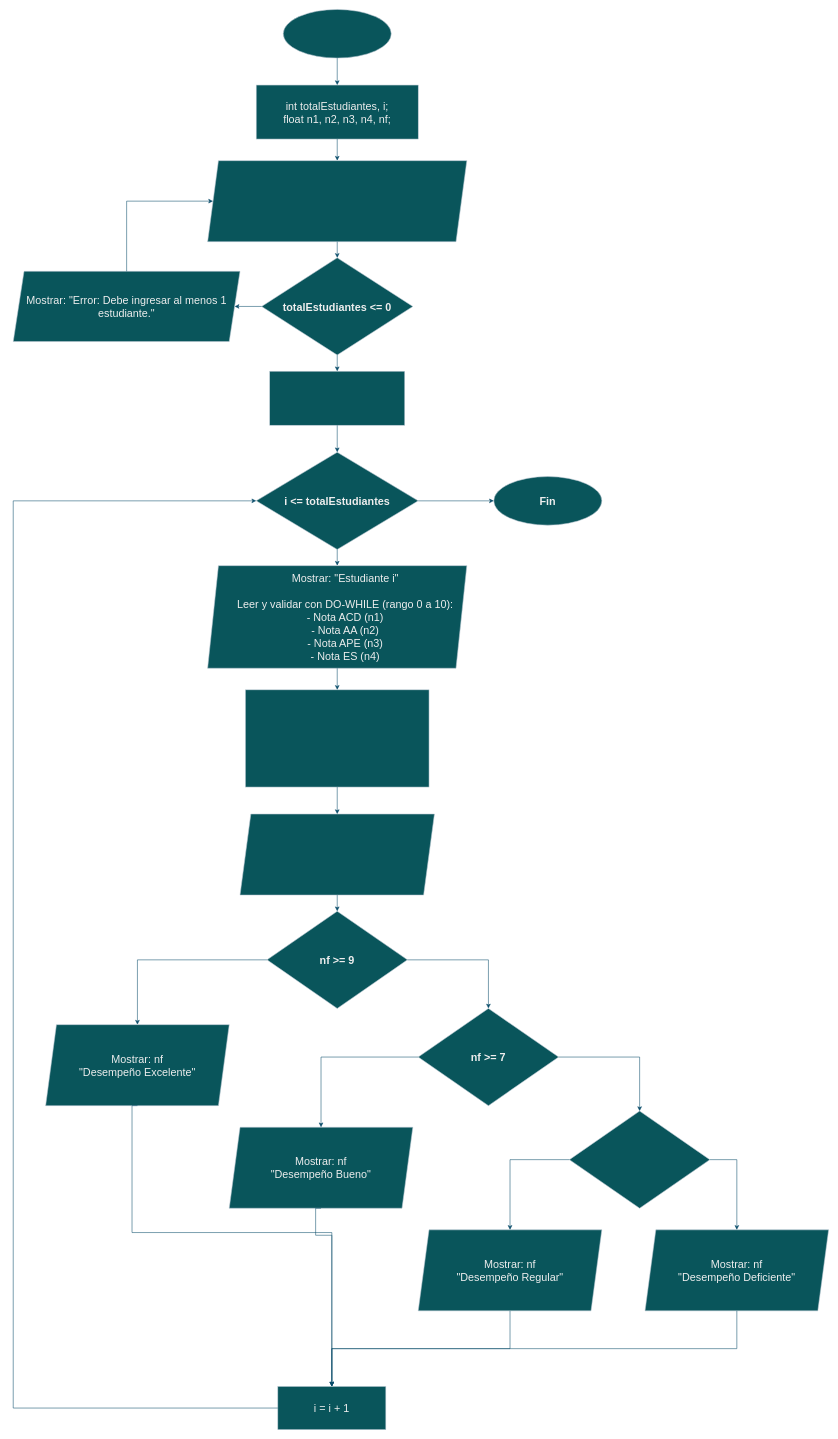
Image size: 838x1439. Some labels were removed from this diagram. Each missing label, with the centre of its shape:
i = 1: the point at 337,398
Inicio: the point at 337,33
Mostrar notas ponderadas: n1, n2, n3, n4: the point at 336,854
Mostrar: "Ingrese la cantidad total de estudiantes: " Leer: totalEstudiantes: the point at 337,201
n1 = n1 * 0.2 n2 = n2 * 0.2 n3 = n3 * 0.2 n4 = n4 * 0.4 nf = n1 + n2 + n3 + n4: the point at 337,738
nf >= 5: the point at 639,1159
